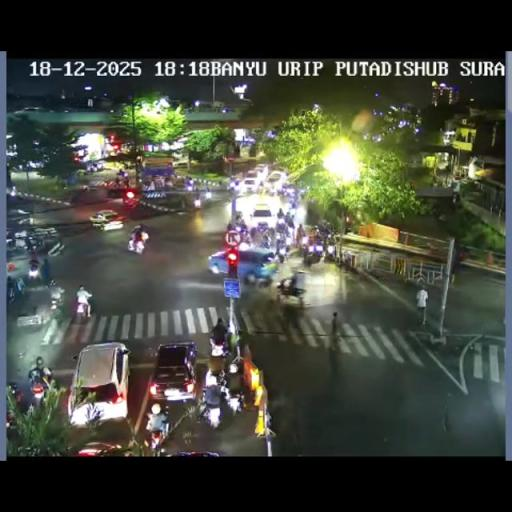Car: (68, 342, 130, 426), (6, 229, 62, 287), (148, 342, 198, 404), (206, 245, 278, 283), (13, 284, 58, 330), (90, 208, 124, 230), (73, 441, 124, 455), (250, 203, 274, 228), (264, 170, 286, 192), (239, 177, 259, 193), (85, 159, 105, 173), (254, 164, 268, 178)
Motorcycle: (247, 286, 275, 329), (27, 368, 53, 408), (196, 393, 223, 429), (145, 420, 167, 454), (277, 281, 306, 306), (5, 382, 22, 422), (225, 385, 245, 416), (204, 364, 226, 391), (208, 334, 230, 360), (234, 322, 250, 354), (74, 295, 92, 323), (302, 242, 322, 266), (314, 219, 336, 240), (50, 287, 66, 313), (128, 232, 146, 254), (234, 227, 253, 246), (28, 260, 41, 282), (6, 278, 16, 304), (24, 236, 39, 252), (282, 222, 294, 240), (276, 242, 286, 263), (226, 217, 240, 232), (283, 186, 296, 200), (227, 178, 240, 192), (326, 241, 336, 259), (15, 276, 25, 294), (192, 194, 203, 210), (286, 203, 296, 219), (185, 177, 195, 191), (116, 169, 127, 179), (277, 209, 285, 221), (298, 187, 306, 199), (123, 178, 130, 188), (205, 188, 211, 199), (114, 176, 120, 187), (10, 186, 16, 196)
